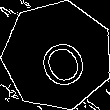O_NW: (26, 23, 89, 88)
